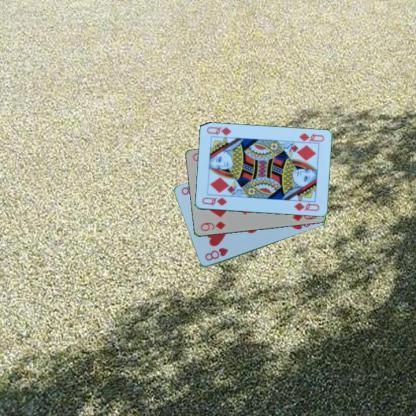8h: (203, 244, 230, 262)
9d: (198, 218, 226, 233)
Qd: (294, 130, 325, 146), (199, 195, 228, 207)
